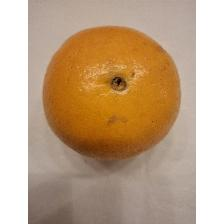Orange: (41, 23, 184, 164)
